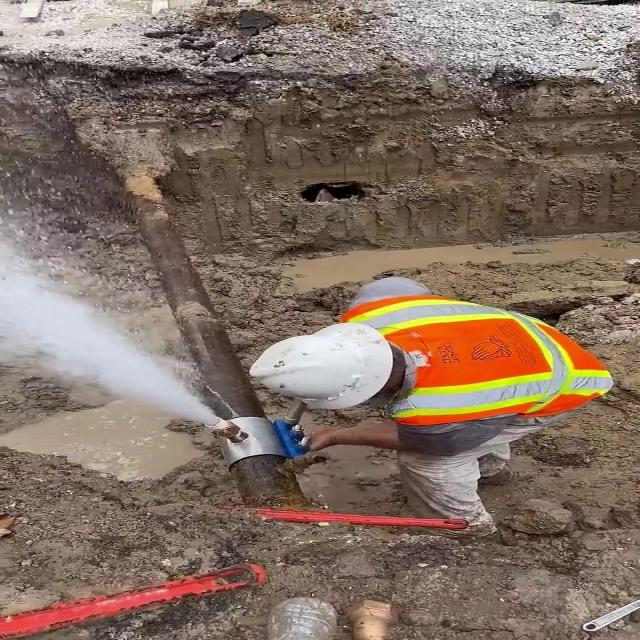leak: (0, 222, 223, 431)
